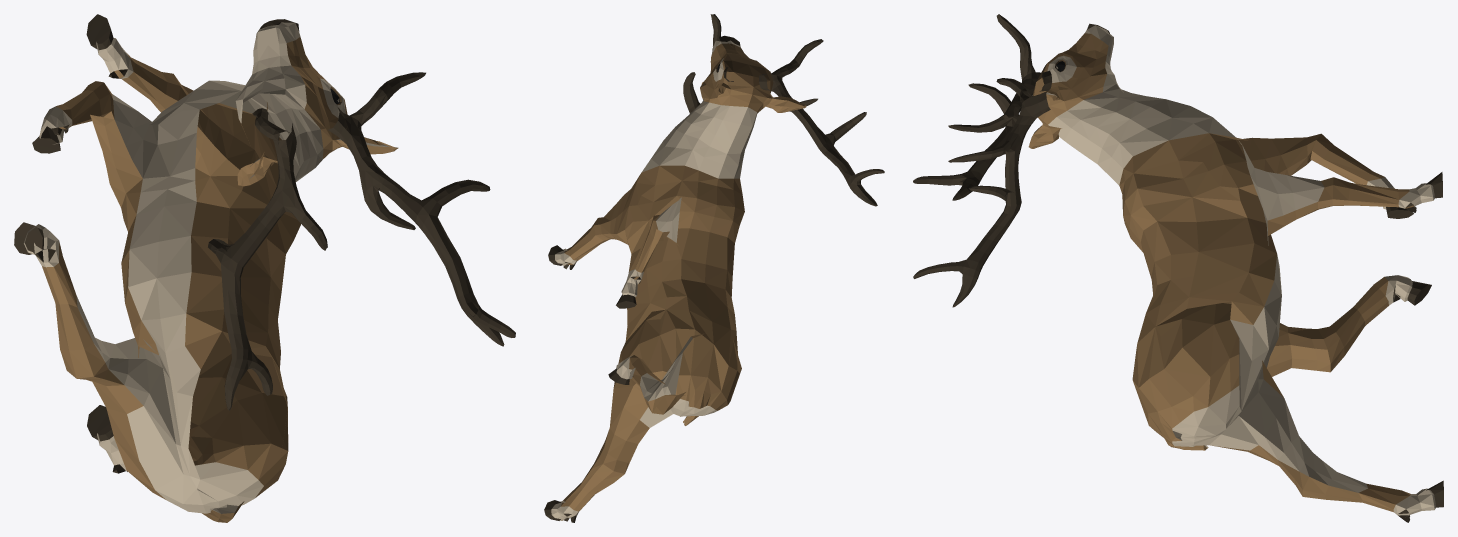
File: stag-walk-4.glb
The picture shows the model from 3 angles, left to right: view 1: azimuth 30°, elevation 25°; view 2: azimuth 150°, elevation 25°; view 3: azimuth 270°, elevation 25°; orthographic projection. The views are drawn at different scales.
Size of the model in its own units: 0.865 by 1.82 by 1.83.
